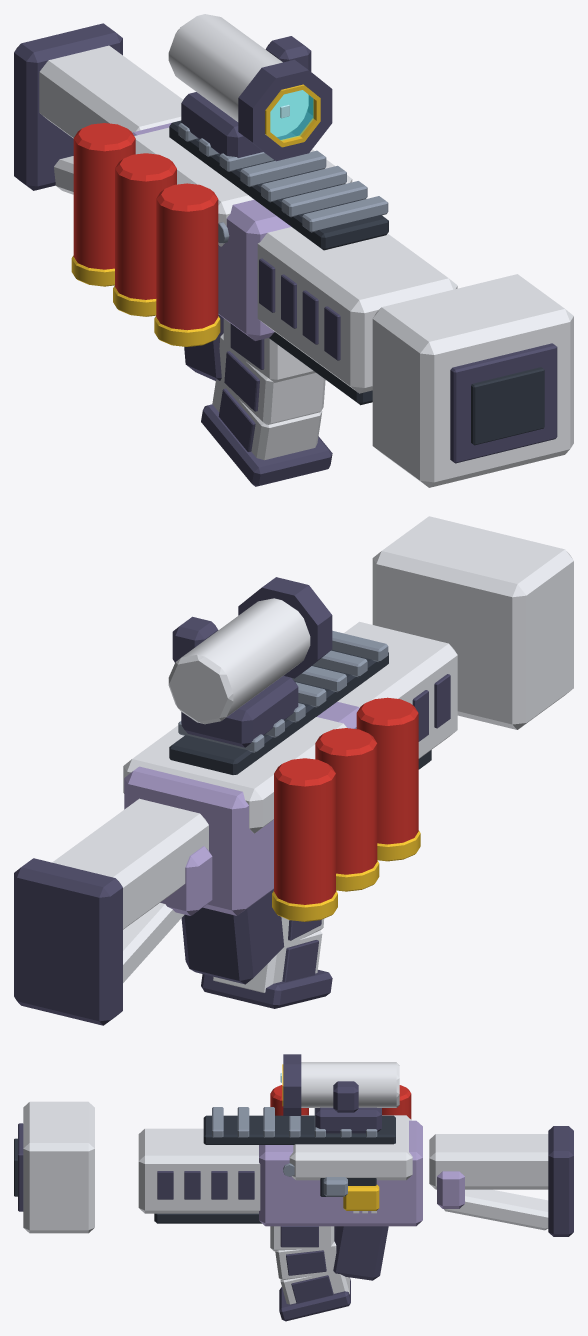
File: Future_Shotgun_v002.fbx
3 renders of one model, top to bottom at view 1: azimuth 30°, elevation 25°; view 2: azimuth 150°, elevation 25°; view 3: azimuth 270°, elevation 25°, orthographic. The views are drawn at different scales.
Parts seen in each view (by area): view 1: Future_Shotgun__RECEIVER_MESH, Future_Shotgun__MAGAZINE_MESH; view 2: Future_Shotgun__RECEIVER_MESH, Future_Shotgun__MAGAZINE_MESH; view 3: Future_Shotgun__RECEIVER_MESH, Future_Shotgun__MAGAZINE_MESH.
Part boxes in pixels (x1,y1,x2,y2): Future_Shotgun__RECEIVER_MESH: (14,14,573,487); Future_Shotgun__MAGAZINE_MESH: (201,318,332,486); Future_Shotgun__RECEIVER_MESH: (14,516,573,1025); Future_Shotgun__MAGAZINE_MESH: (201,917,332,1008); Future_Shotgun__RECEIVER_MESH: (14,1054,573,1280); Future_Shotgun__MAGAZINE_MESH: (270,1226,350,1321).
Bounding box in the file's own units: 0.5975 × 1.08 × 2.19.
